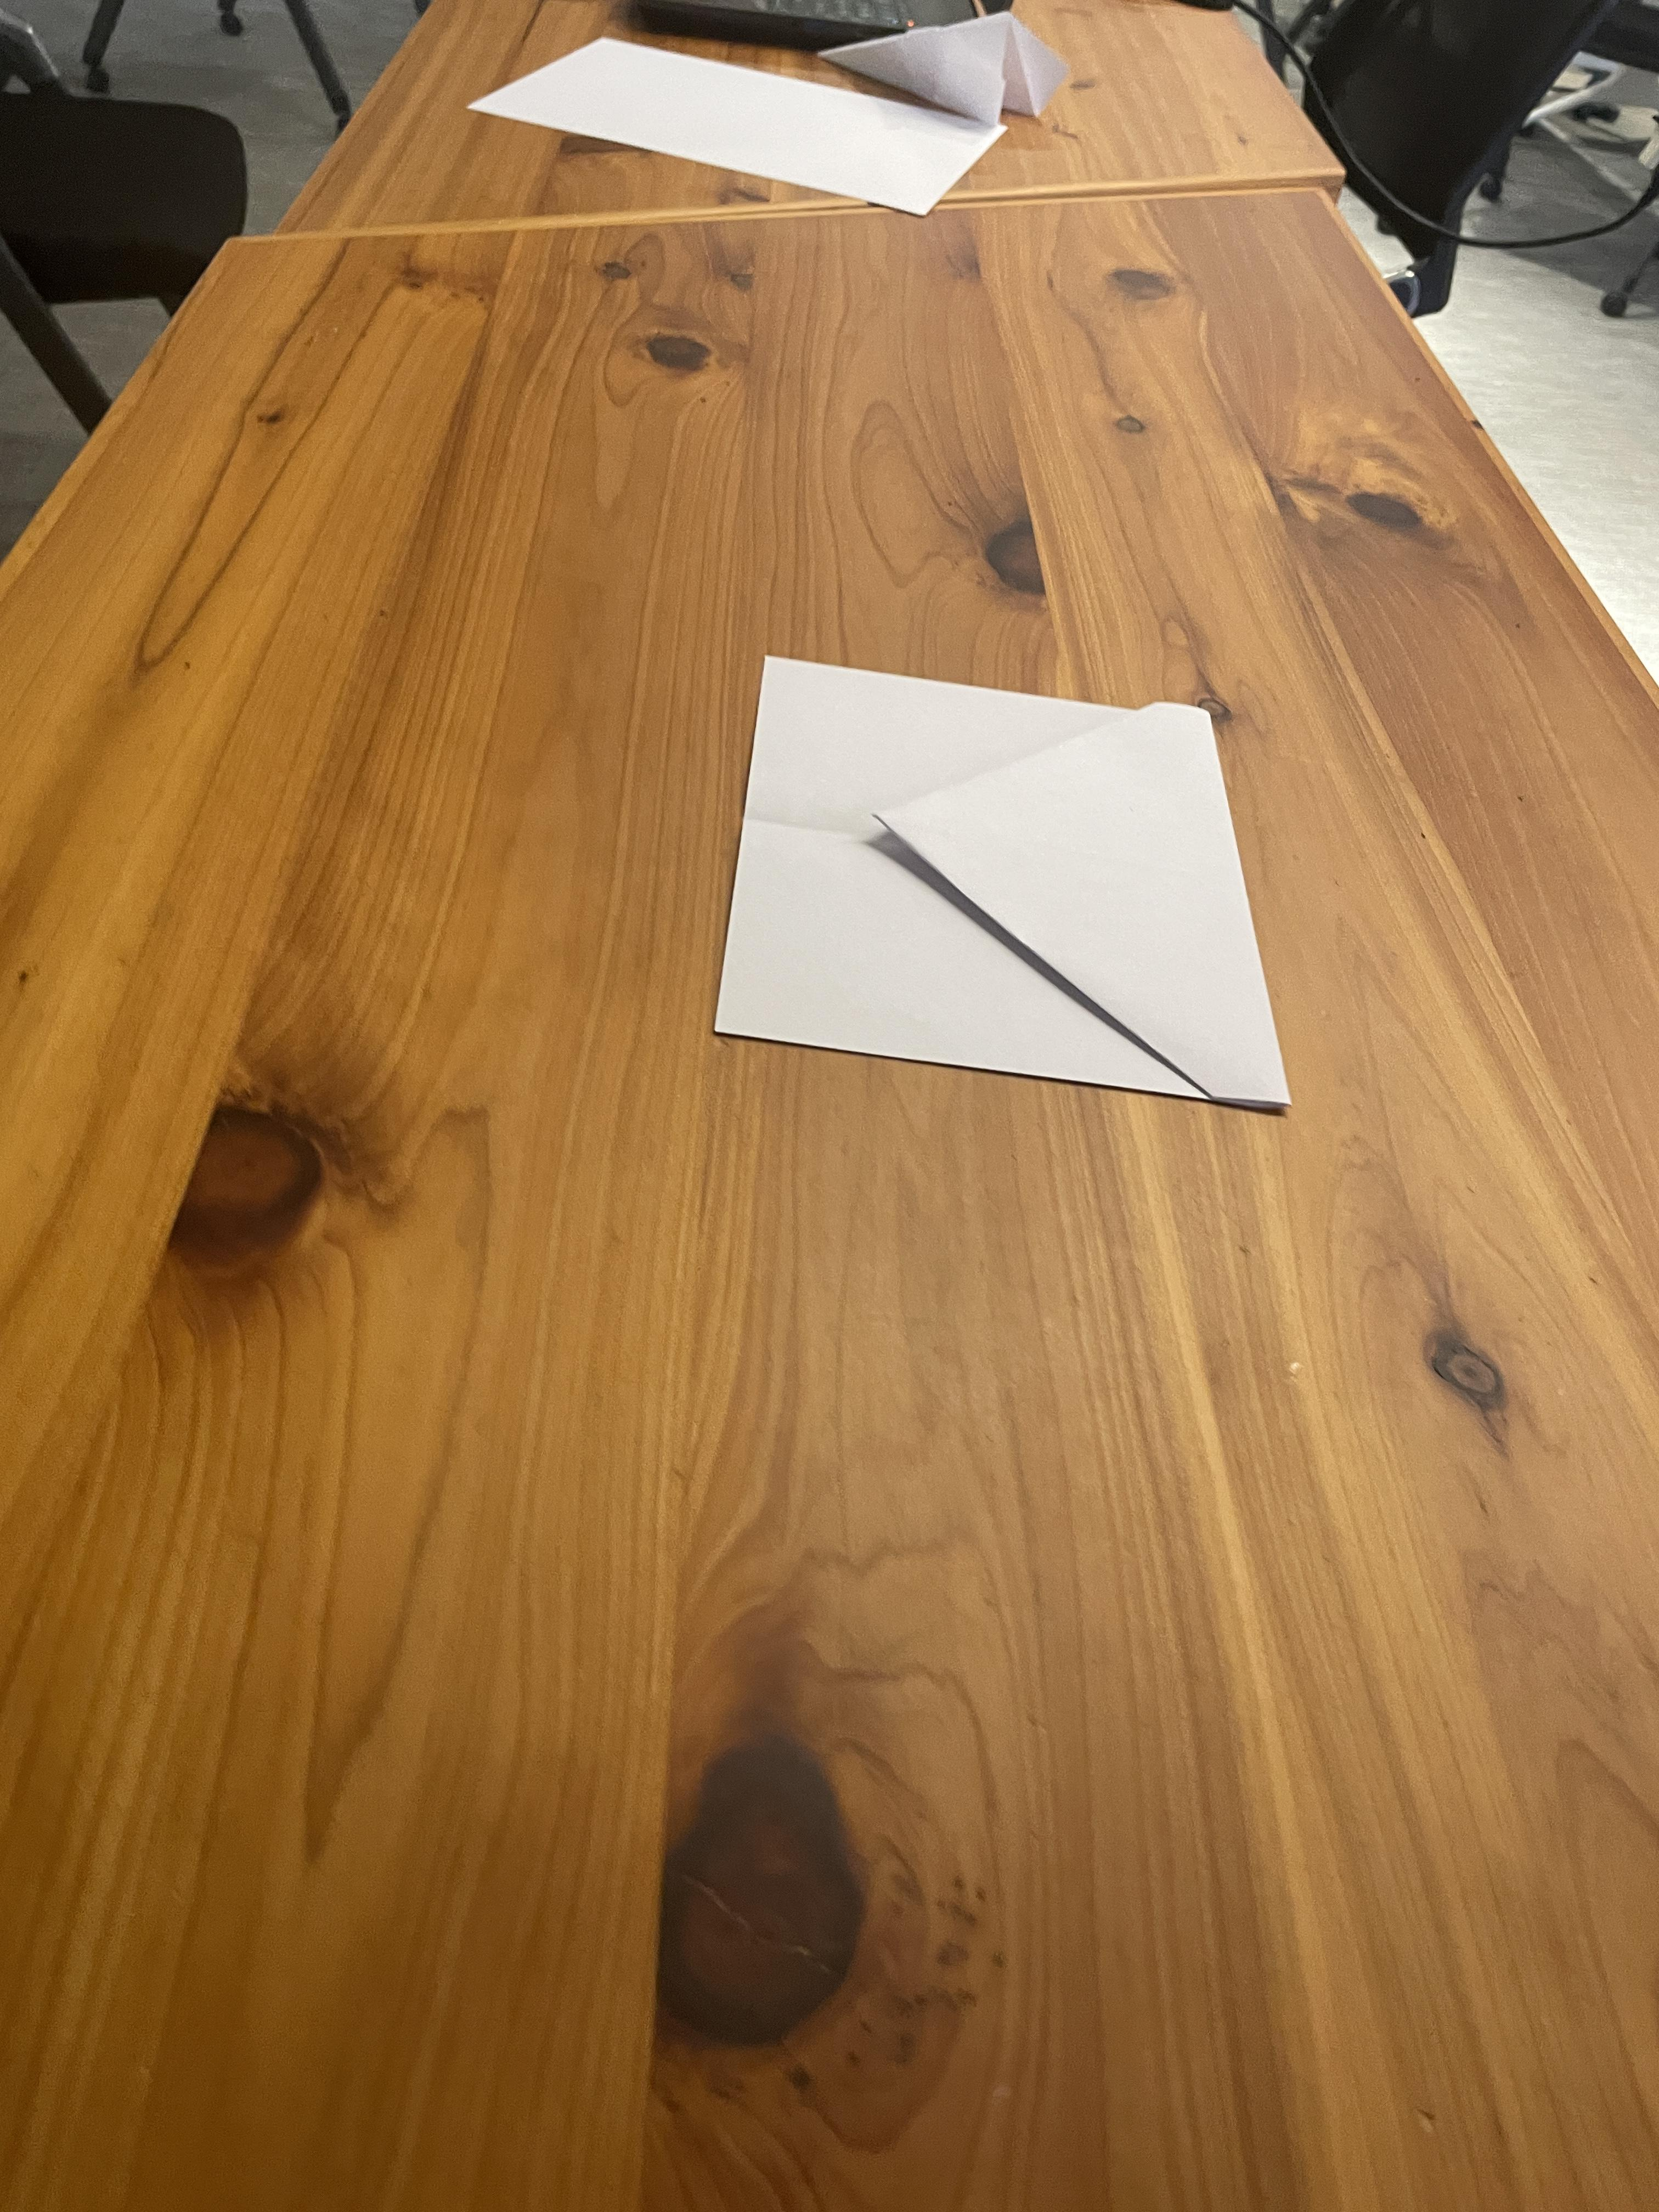shape_1: (521, 395, 1417, 1322)
